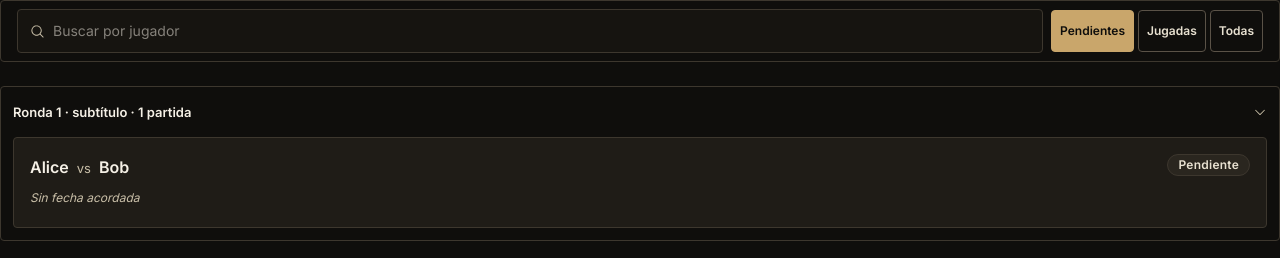
Test: CA-13: una búsqueda sin coincidencias muestra el aviso y su botón vacía el buscador › muestra «Ninguna partida casa con «texto»» y el botón limpia la búsqueda
Type "nadie" into the search field with test id "search-input".
click(542, 31); type("nadie")  # box [53,18,1030,44]
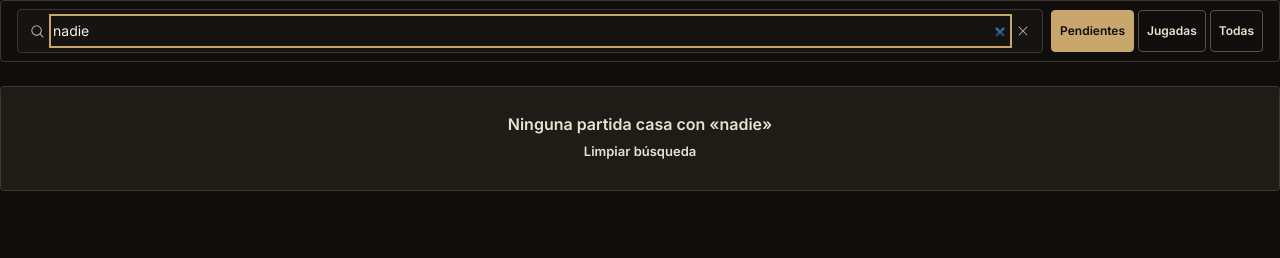
Click the button with test id "empty-no-search-results-clear".
click(640, 152)  # box [571,137,709,166]
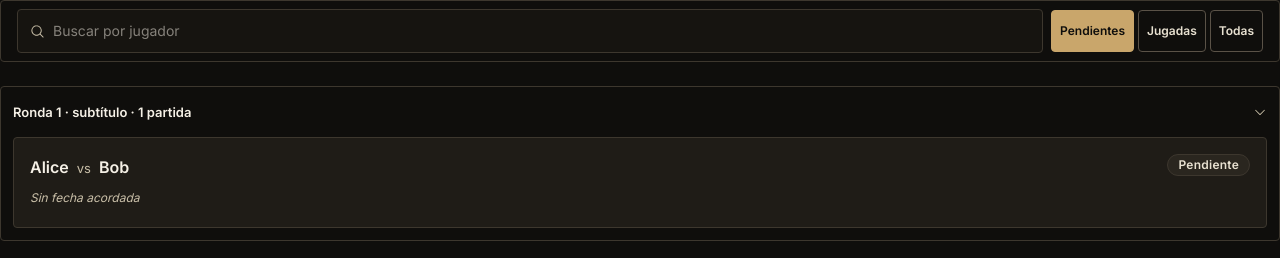
Check: the search field with test id "search-input" is empty, box [53,18,1030,44]
Check: the element with test id "empty-no-search-results" is gone
